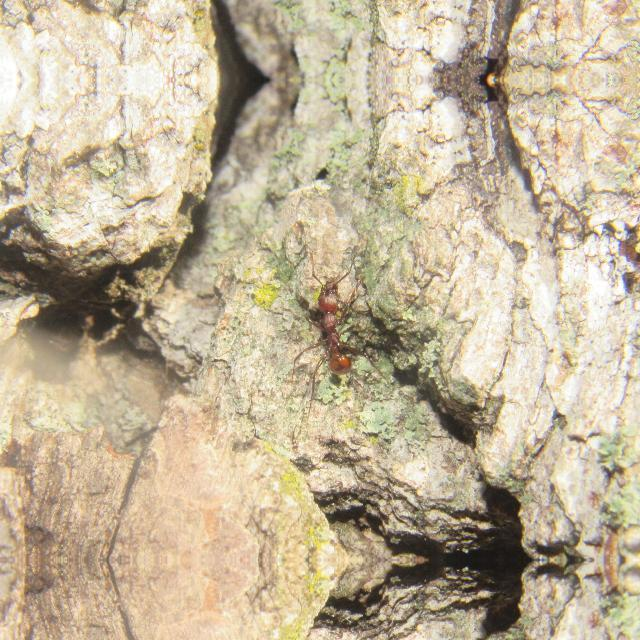Apheanogaster: (281, 270, 377, 390)
